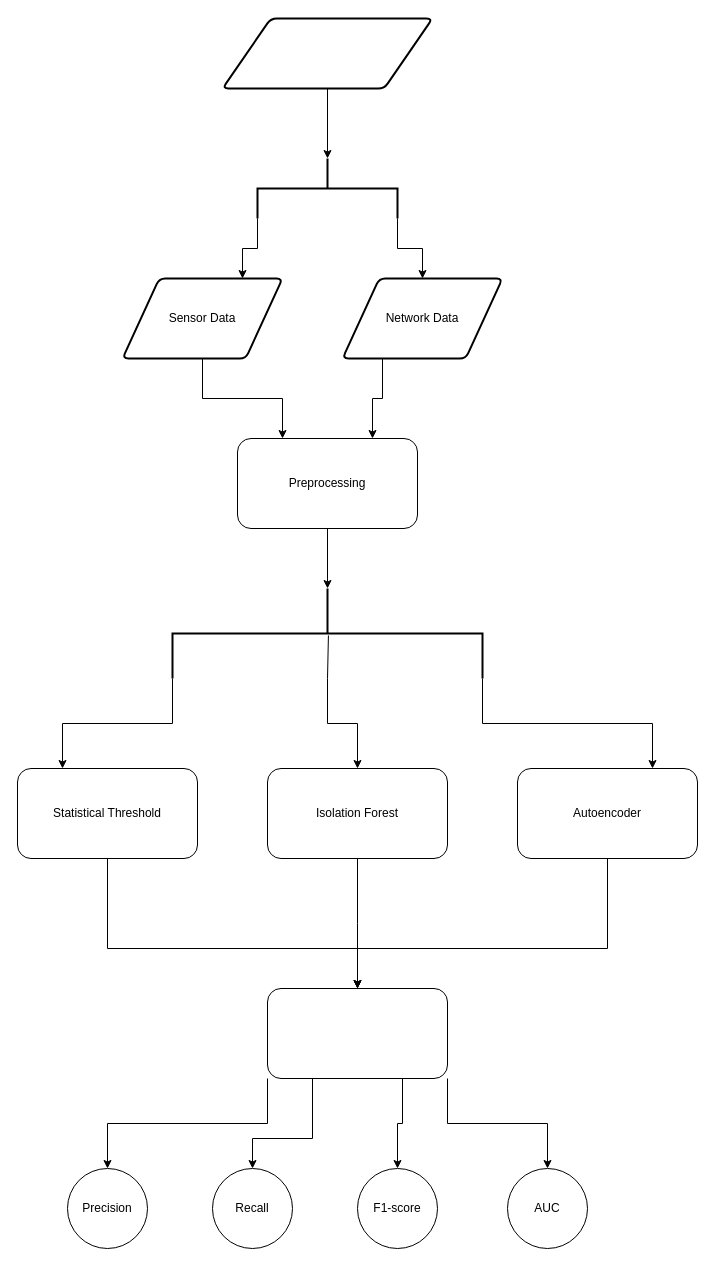
The diagram is 715 pixels wide and 1266 high, and some of its shapes have lost their labels. The centre of each missing label's shape, as x and y in pixels:
Evaluation: the point at 357,1033
SWaT.A6_Dec 2019: the point at 327,53
